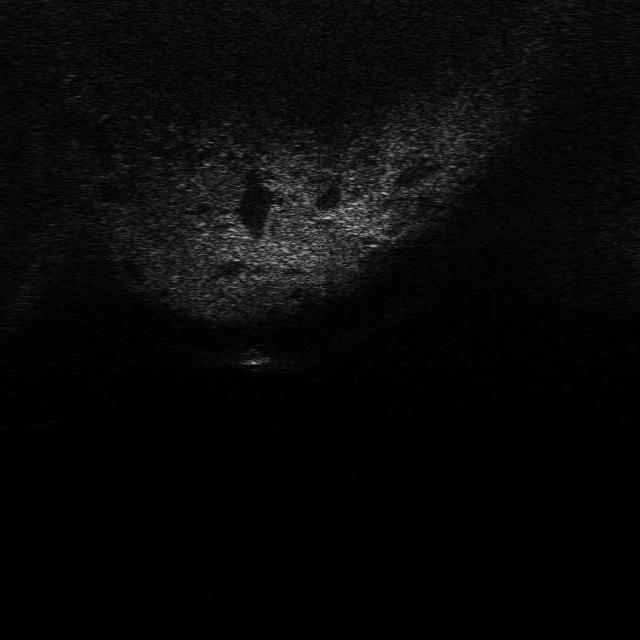cube: (230, 347, 276, 369)
